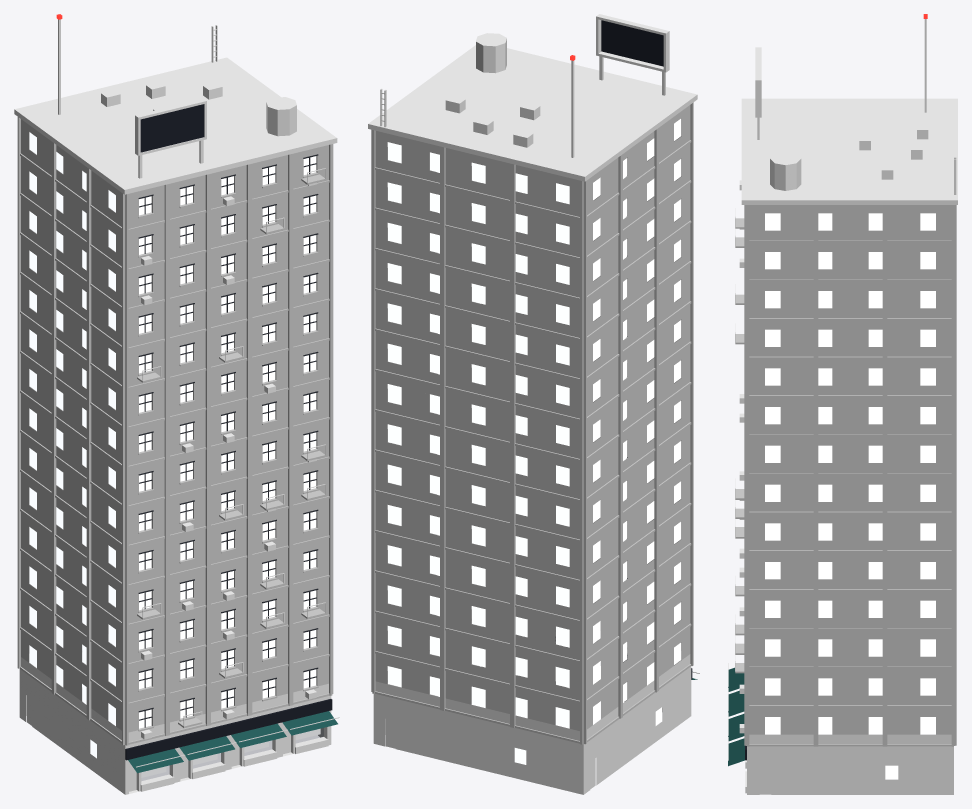
File: bld_neon_03_b.glb
3 views of the same model, side by side, from view 1: azimuth 30°, elevation 25°; view 2: azimuth 150°, elevation 25°; view 3: azimuth 270°, elevation 25° (orthographic). The views are drawn at different scales.
Visible parts, largest first — view 1: LOD0; view 2: LOD0; view 3: LOD0.
Part boxes in pixels (x1,y1,x2,y2): LOD0: (14, 14, 339, 794); LOD0: (368, 14, 699, 794); LOD0: (728, 14, 957, 794).
Size of what is drawn, in the model's own units: 18.6 by 59.1 by 17.75.
